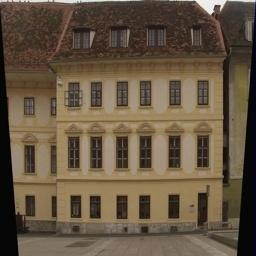building: (0, 0, 220, 253)
